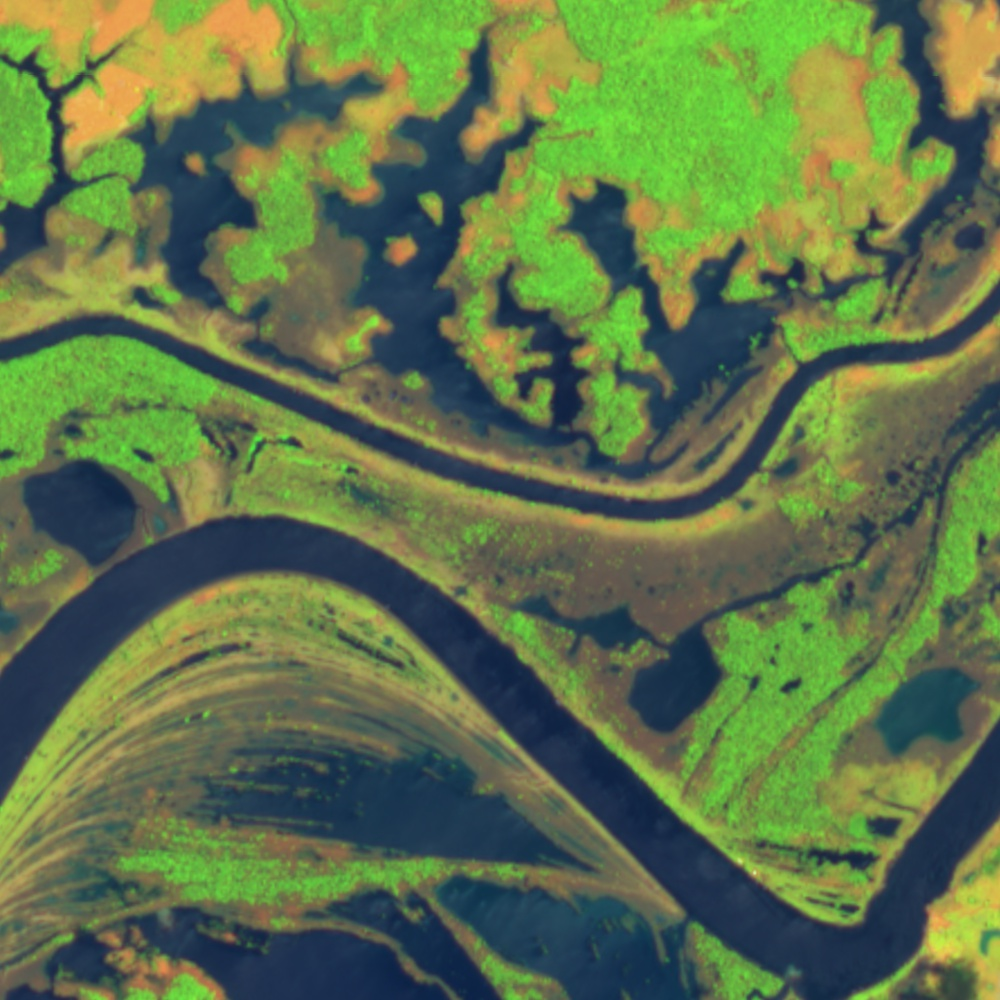legal: (1, 1, 607, 366), (1, 573, 664, 904), (430, 482, 1000, 753), (559, 168, 1000, 483), (1, 901, 790, 1000), (1, 396, 268, 663), (818, 535, 1000, 821), (787, 1, 1000, 166), (729, 817, 903, 926), (920, 824, 1000, 1000)
